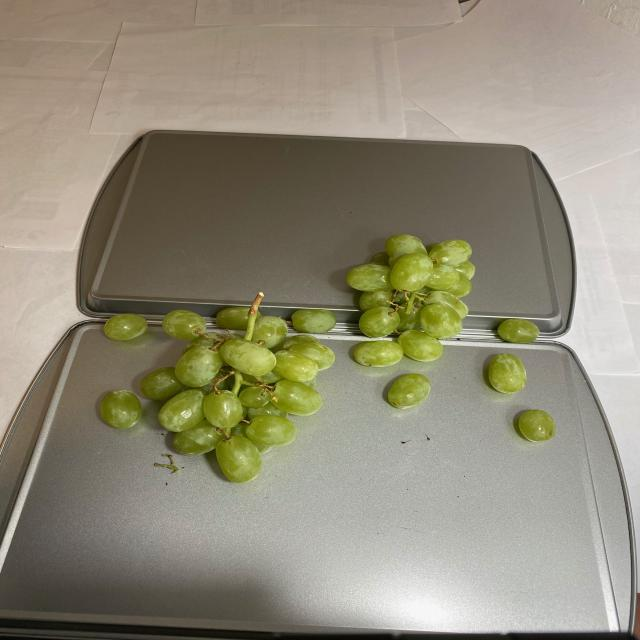grapes: (94, 234, 552, 492)
